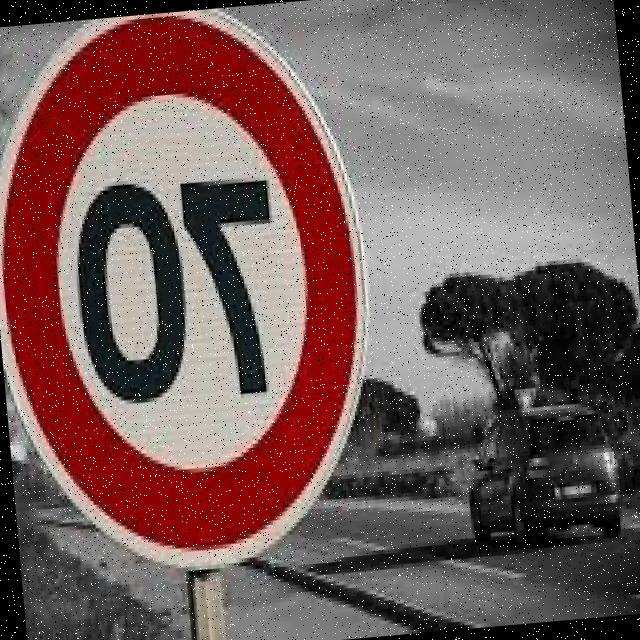speed_limit_70: (0, 0, 399, 573)
